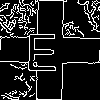E: (25, 25, 59, 71)
